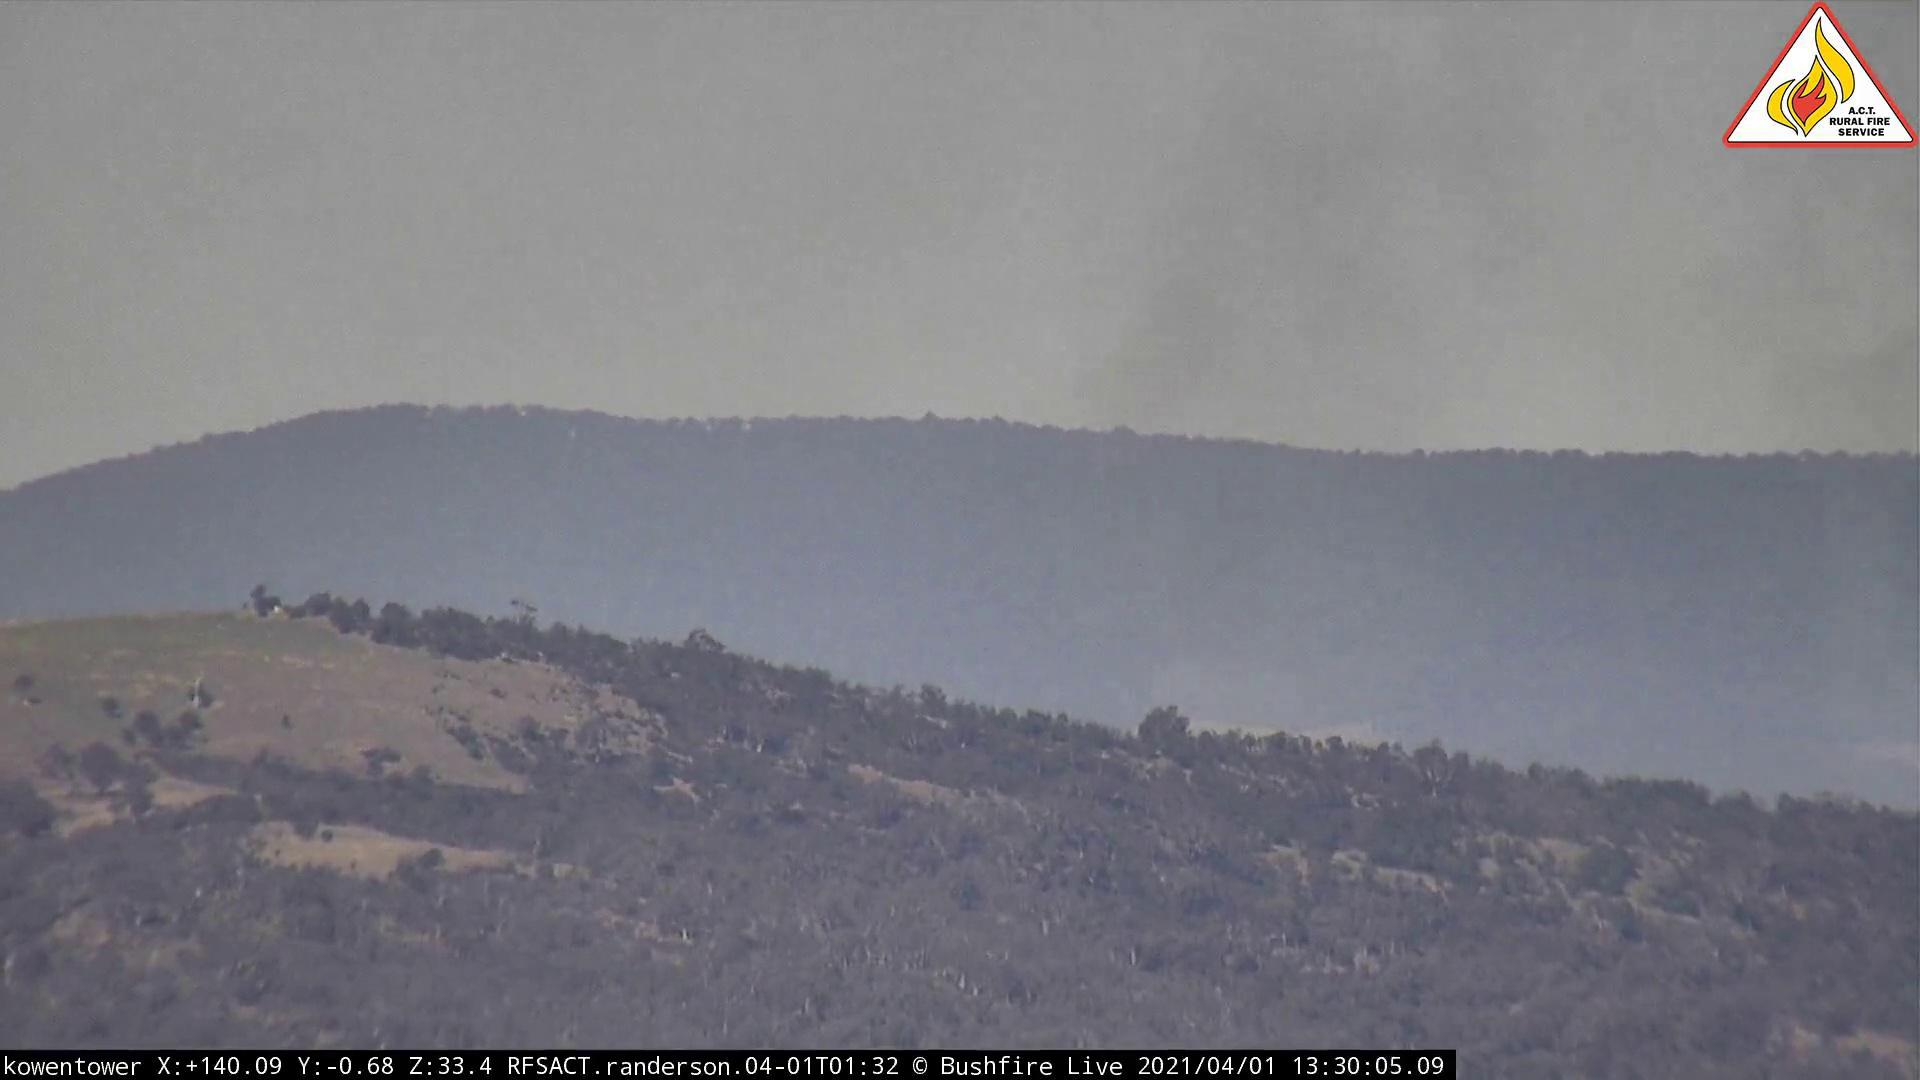Smoke: (1054, 3, 1920, 756)
